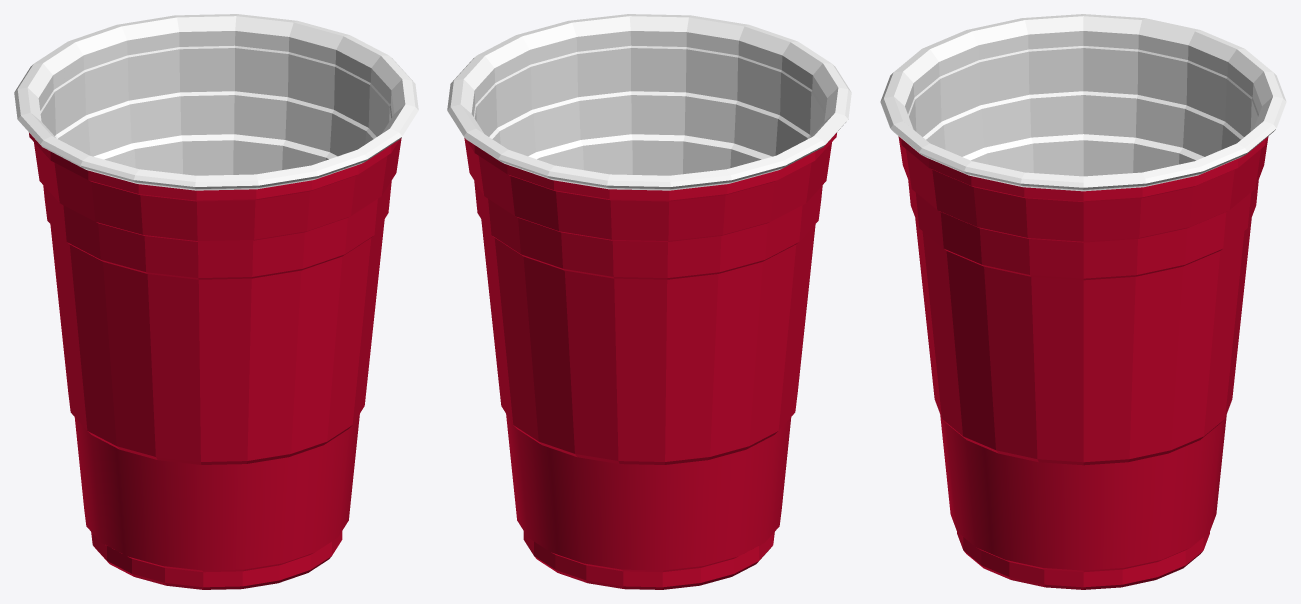
The model's file is CocaColaCup.fbx.
The picture shows the model from 3 angles, left to right: view 1: azimuth 30°, elevation 25°; view 2: azimuth 150°, elevation 25°; view 3: azimuth 270°, elevation 25°; orthographic projection.
Visible parts, largest first — view 1: uploads_files_2729887_solo; view 2: uploads_files_2729887_solo; view 3: uploads_files_2729887_solo.
Boxes of the visible parts, x1,y1,x2,y2 form: uploads_files_2729887_solo: [14, 14, 418, 589]; uploads_files_2729887_solo: [447, 14, 851, 589]; uploads_files_2729887_solo: [880, 14, 1286, 589].
Size of the model in its own units: 47.47 by 56.92 by 47.47.
